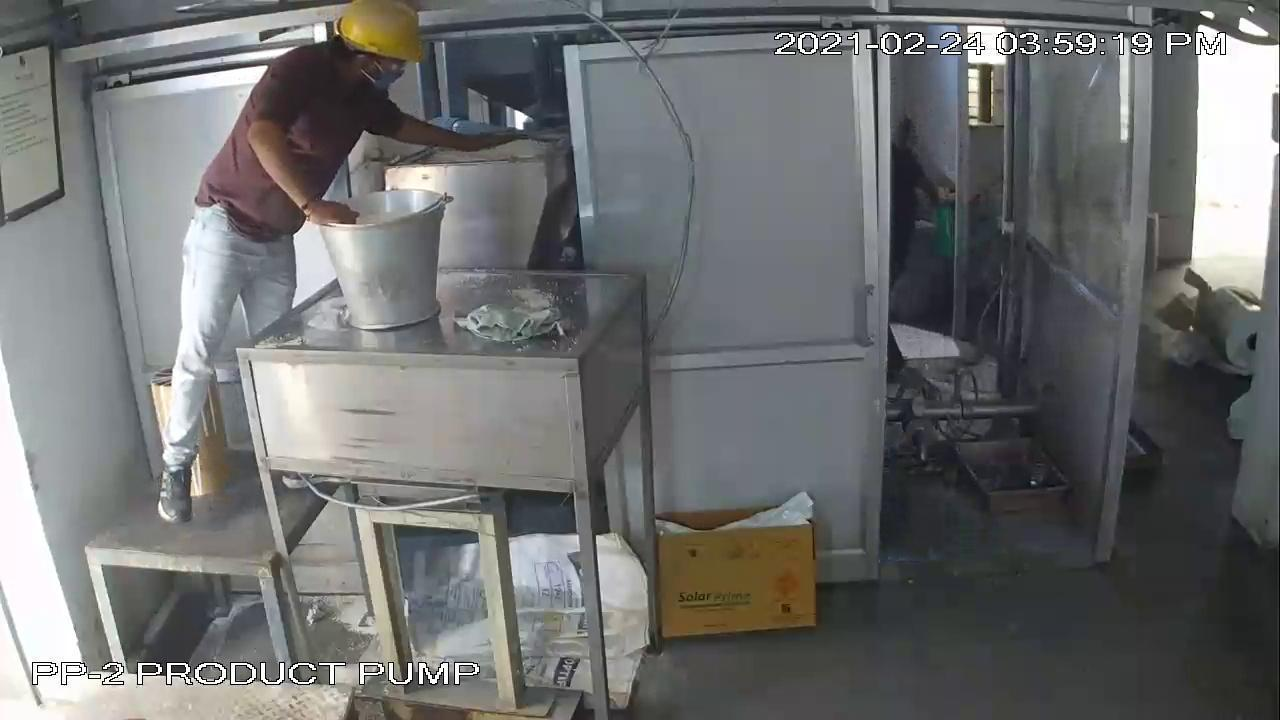helmet: (328, 1, 438, 80)
